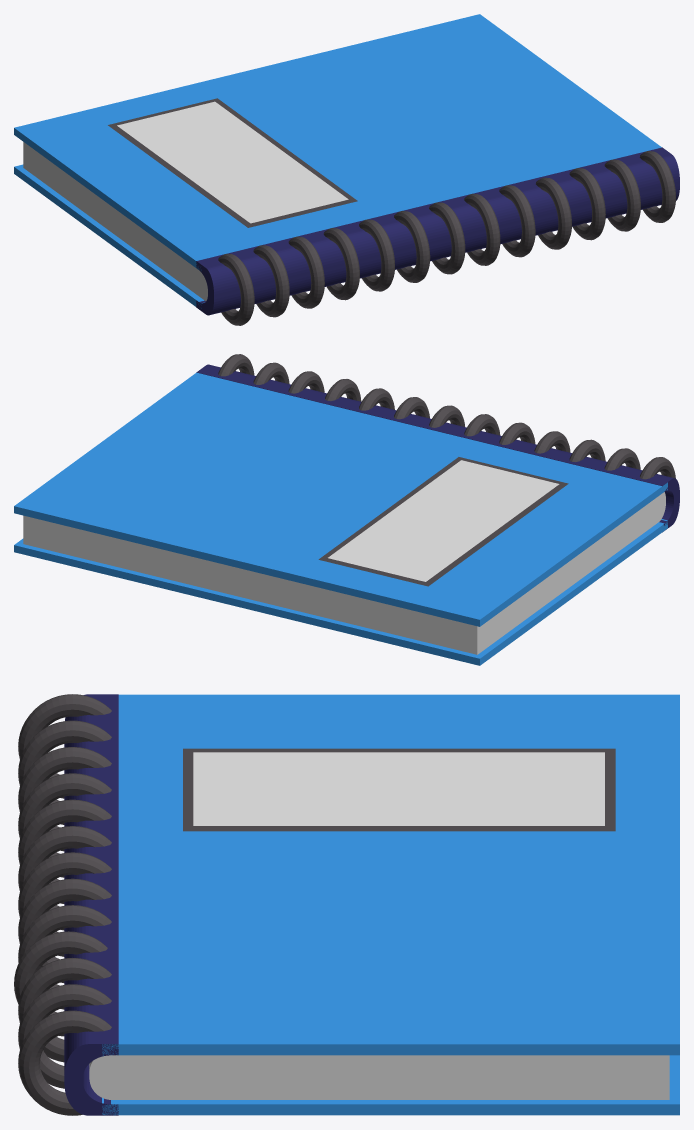
File: book2Bleu.fbx
3 renders of one model, top to bottom at view 1: azimuth 30°, elevation 25°; view 2: azimuth 150°, elevation 25°; view 3: azimuth 270°, elevation 25°, orthographic. The views are drawn at different scales.
Parts seen in each view (by area): view 1: Cube.001, Cube.004, Plane.001, Cube.002, Plane, Torus.009, Torus, Torus.008, Torus.006, Torus.007, Torus.004, Torus.005 (+6 smaller); view 2: Cube.001, Cube.002, Plane.001, Cube.004, Plane, Torus.009, Torus.012, Torus.003, Torus, Torus.004, Torus.005, Torus.008 (+6 smaller); view 3: Cube.001, Plane.001, Cube.002, Cube.004, Plane, Torus.012, Torus.011, Torus.010, Torus.009, Cube.003, Torus.007, Torus.003 (+7 smaller).
Part boxes in pixels (x1,y1,x2,y2): Cube.001: (14, 14, 661, 308); Cube.004: (196, 147, 679, 315); Plane.001: (117, 101, 348, 223); Cube.002: (23, 142, 196, 293); Plane: (108, 98, 357, 227); Torus.009: (536, 177, 571, 249); Torus: (429, 202, 465, 274); Torus.008: (499, 185, 535, 257); Torus.006: (218, 253, 254, 325); Torus.007: (464, 193, 500, 265); Torus.004: (288, 236, 324, 308); Torus.005: (253, 245, 289, 317); Cube.001: (14, 372, 667, 665); Cube.002: (23, 503, 649, 654); Plane.001: (328, 460, 559, 581); Cube.004: (196, 364, 679, 532); Plane: (318, 457, 568, 586); Torus.009: (325, 379, 361, 401); Torus.012: (218, 354, 254, 376); Torus.003: (534, 431, 570, 453); Torus: (429, 405, 464, 427); Torus.004: (569, 439, 605, 462); Torus.005: (604, 448, 640, 470); Torus.008: (359, 388, 394, 410); Cube.001: (102, 694, 679, 1115); Plane.001: (193, 752, 604, 825); Cube.002: (137, 1055, 669, 1099); Cube.004: (64, 694, 118, 1115); Plane: (183, 748, 615, 831); Torus.012: (18, 1010, 111, 1115); Torus.011: (18, 984, 111, 1088); Torus.010: (18, 958, 111, 1062); Torus.009: (14, 931, 107, 1036); Cube.003: (89, 1055, 139, 1099); Torus.007: (18, 878, 111, 982); Torus.003: (18, 773, 111, 877).
Bounding box in the file's own units: 398 × 55 × 320.
